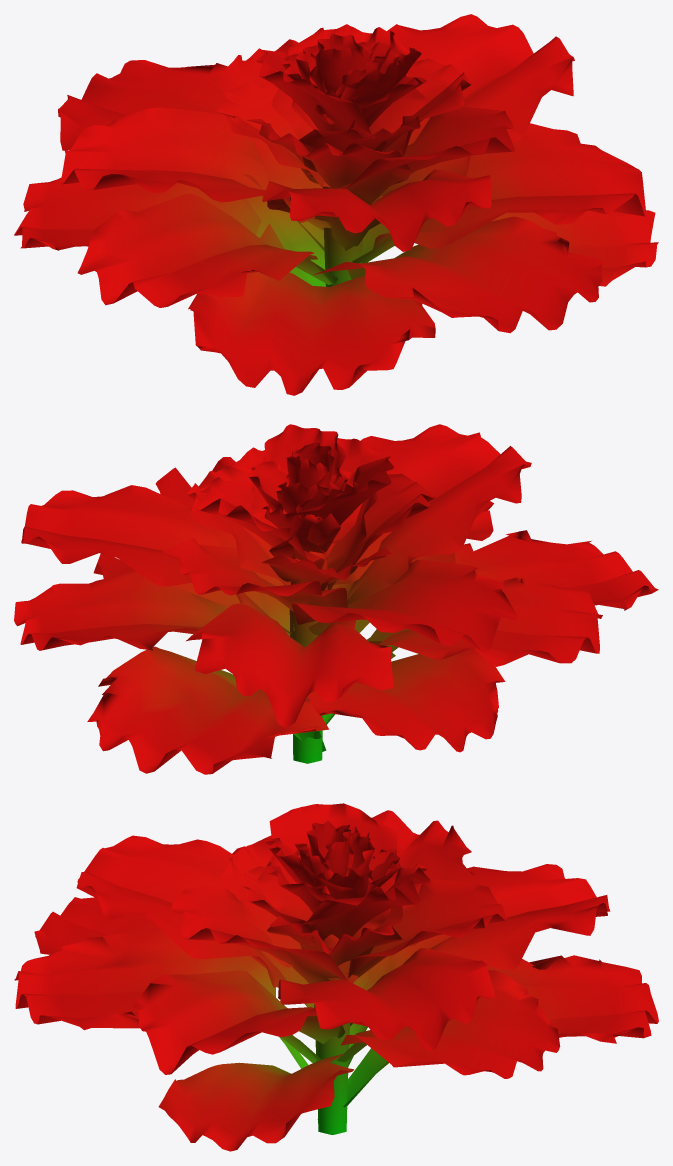
Rendered from Purple Ornamental Kale_LOD0_Var6_ugdieawja.fbx.
The picture shows the model from 3 angles, top to bottom: view 1: azimuth 30°, elevation 25°; view 2: azimuth 150°, elevation 25°; view 3: azimuth 270°, elevation 25°; orthographic projection. The views are drawn at different scales.
Parts seen in each view (by area): view 1: _5bc1_Var6_LOD0; view 2: _5bc1_Var6_LOD0; view 3: _5bc1_Var6_LOD0.
Part boxes in pixels (x1,y1,x2,y2): _5bc1_Var6_LOD0: (14,14,658,395); _5bc1_Var6_LOD0: (14,424,658,774); _5bc1_Var6_LOD0: (14,803,658,1151).
Bounding box in the file's own units: 40.56 × 23.3 × 45.56.
